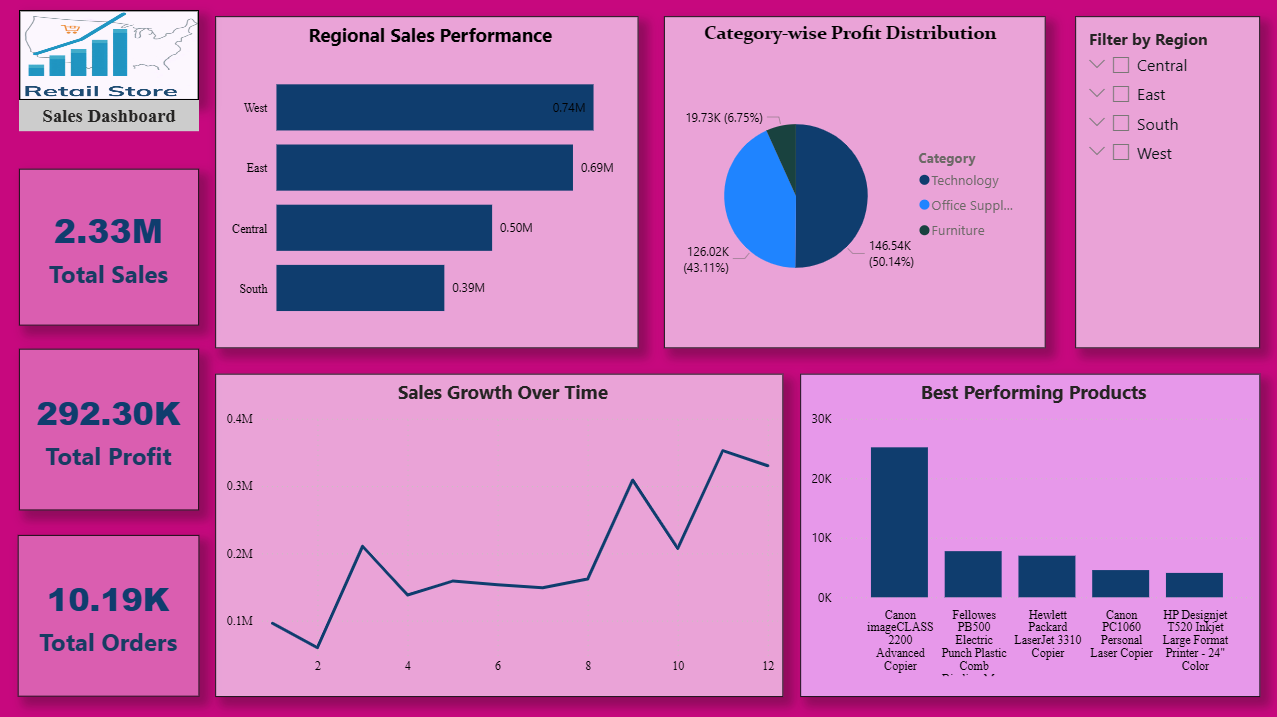

The page's visual inventory and layout, read from the dashboard file:
{"tool":"powerbi","page":{"name":"Page 1","canvas":[1280,720],"ordinal":0},"visuals":[{"type":"card","fields":{"Values":["Sum(cleaned_sales.Sales)"]},"box":[20,168.3,180,156.7],"z":0},{"type":"card","fields":{"Values":["Sum(cleaned_sales.Profit)"]},"box":[20,348.3,180,161.7],"z":1000},{"type":"card","fields":{"Values":["CountNonNull(cleaned_sales.Order ID)"]},"box":[18.3,535,181.7,161.7],"z":2000},{"type":"clusteredBarChart","title":" Regional Sales Performance","fields":{"Category":["cleaned_sales.Region"],"Y":["Sum(cleaned_sales.Sales)"]},"box":[216.7,16.7,423.3,331.7],"z":3000},{"type":"lineChart","title":"Sales Growth Over Time","fields":{"Category":["cleaned_sales.Month"],"Y":["Sum(cleaned_sales.Sales)"]},"box":[216.7,373.3,568.3,323.3],"z":4000},{"type":"pieChart","title":"Category-wise Profit Distribution","fields":{"Category":["cleaned_sales.Category"],"Y":["Sum(cleaned_sales.Profit)"]},"box":[665,16.7,381.7,331.7],"z":5000},{"type":"clusteredColumnChart","title":"Best Performing Products","fields":{"Category":["cleaned_sales.Product Name"],"Y":["Sum(cleaned_sales.Profit)"]},"box":[801.7,373.3,460,323.3],"z":6000},{"type":"slicer","fields":{"Values":["cleaned_sales.Region","cleaned_sales.Category"]},"box":[1076.7,16.7,185,331.7],"z":7000},{"type":"image","box":[20,10,180,90],"z":8000},{"type":"textbox","box":[20,100,180,31.2],"z":9000}]}

Visuals, with their boxes in screenshot pixels (x1, y1, x2, y2), scaled from the page's 1280x720 canvas onto the 1277x717 screenshot:
card - Sum(cleaned_sales.Sales): select_region(20, 168, 200, 324)
card - Sum(cleaned_sales.Profit): select_region(20, 347, 200, 508)
card - CountNonNull(cleaned_sales.Order ID): select_region(18, 533, 200, 694)
" Regional Sales Performance" clusteredBarChart: select_region(216, 17, 638, 347)
"Sales Growth Over Time" lineChart: select_region(216, 372, 783, 694)
"Category-wise Profit Distribution" pieChart: select_region(663, 17, 1044, 347)
"Best Performing Products" clusteredColumnChart: select_region(800, 372, 1259, 694)
slicer - cleaned_sales.Region x cleaned_sales.Category: select_region(1074, 17, 1259, 347)
image: select_region(20, 10, 200, 100)
textbox: select_region(20, 100, 200, 131)
